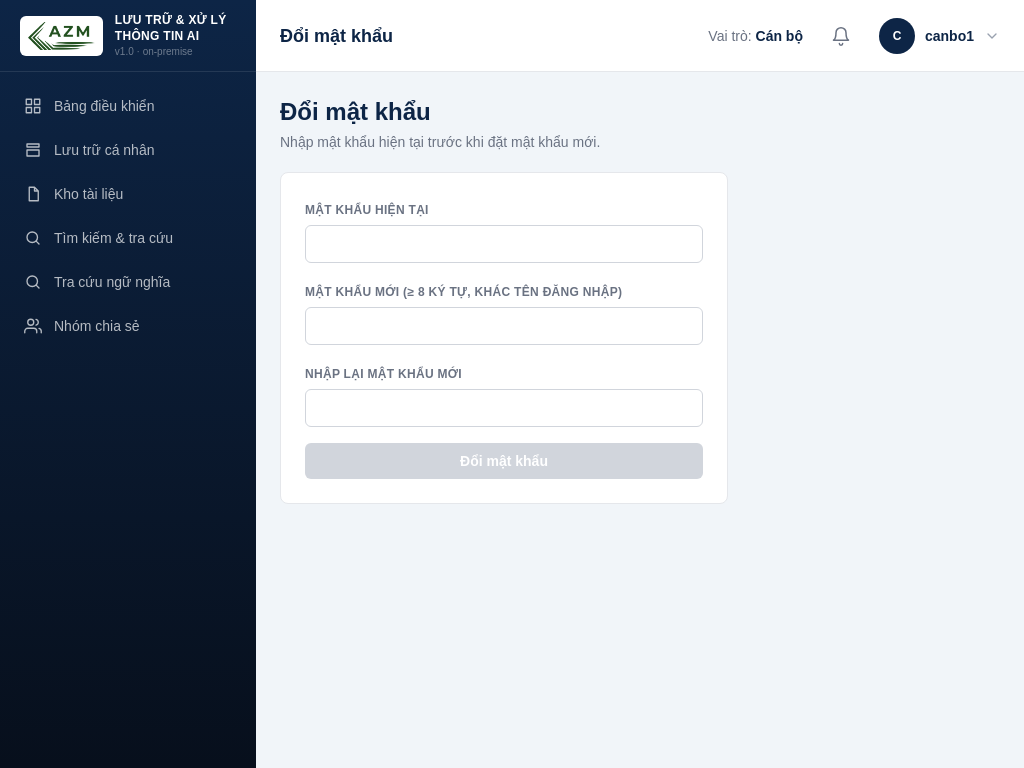
Scenario: ChangePasswordPage › shows the API error message when the change fails
Type "wrongpass" into the password field labelled "Mật khẩu hiện tại" at point(504, 244), box x1=305 y1=225 x2=703 y2=263
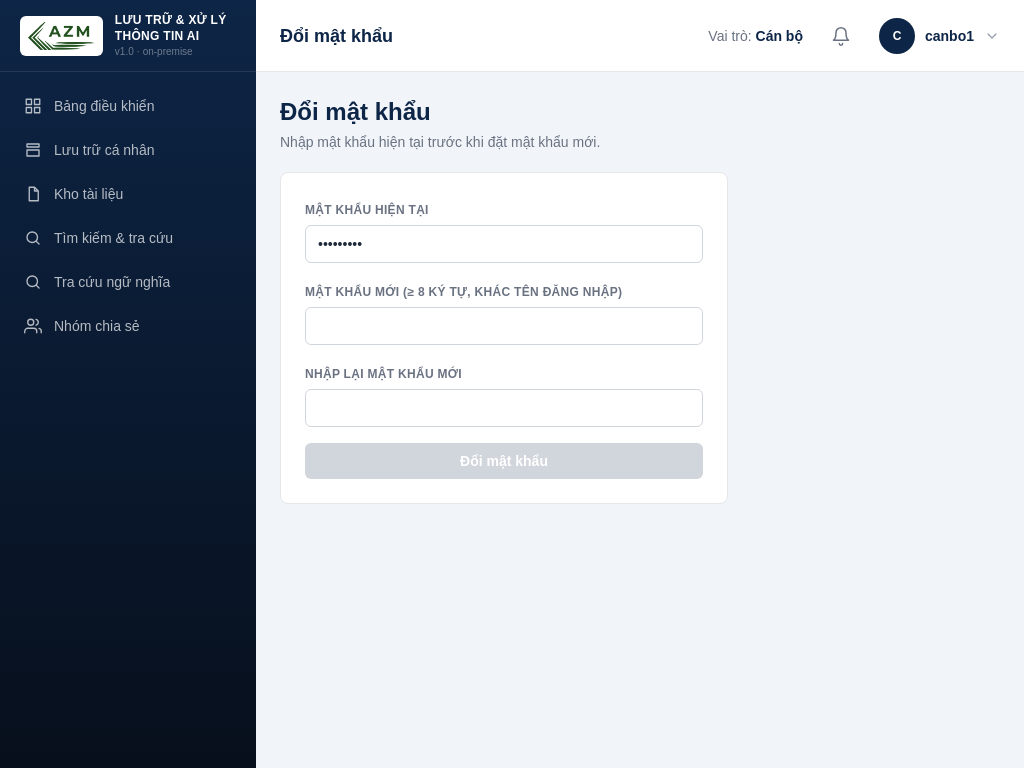
Type "newpass123" into the password field labelled "Mật khẩu mới (≥ 8 ký tự, khác tên đăng nhập)" at point(504, 326), box x1=305 y1=307 x2=703 y2=345
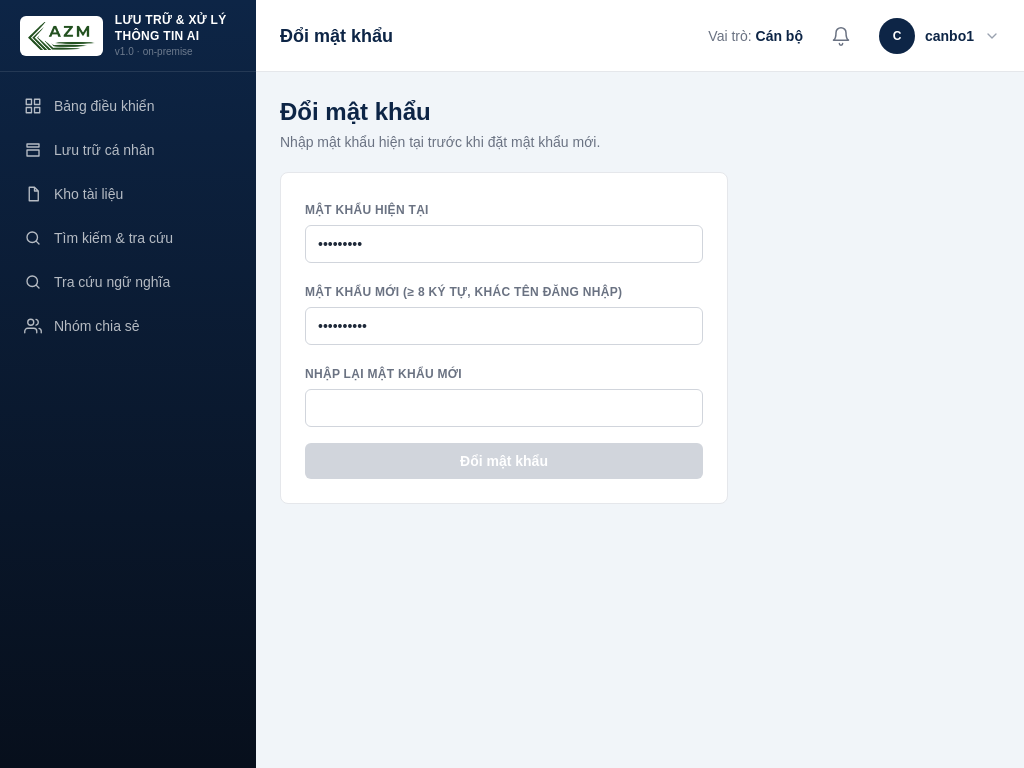
Type "newpass123" into the password field labelled "Nhập lại mật khẩu mới" at point(504, 408), box x1=305 y1=389 x2=703 y2=427
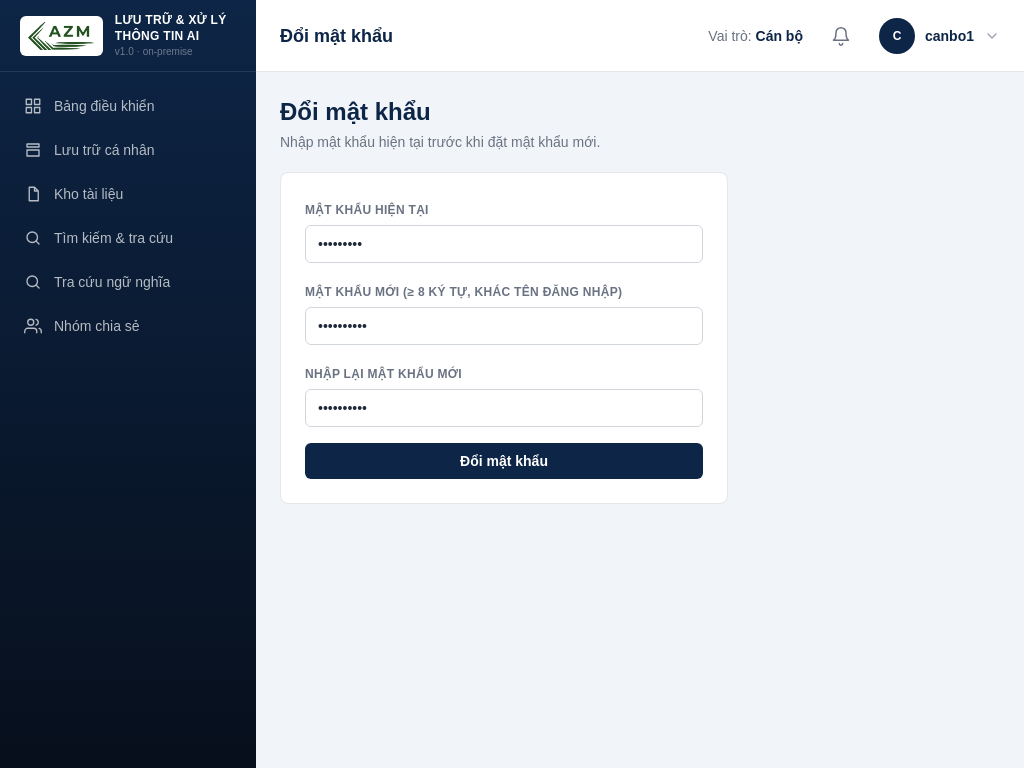
Click the button "Đổi mật khẩu" at point(504, 461), box x1=305 y1=443 x2=703 y2=479
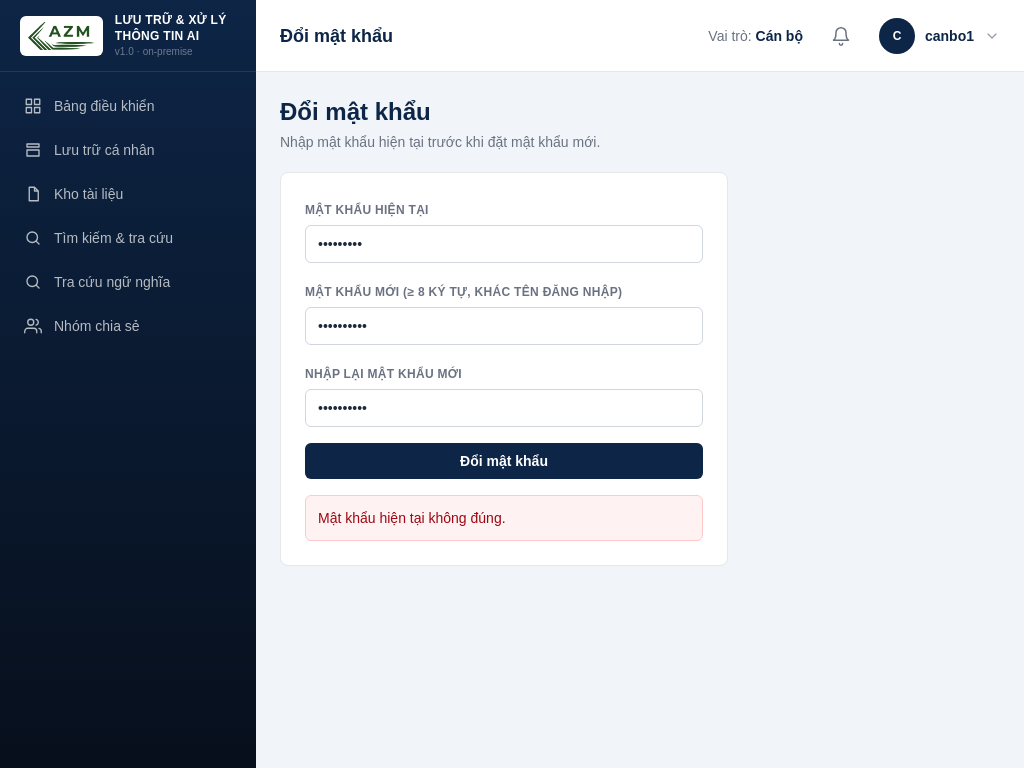
Result: the text "Mật khẩu hiện tại không đúng." is shown at x1=305 y1=495 x2=703 y2=541
